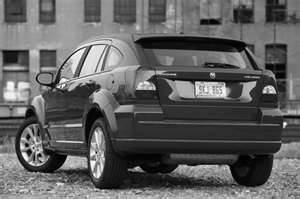car: (14, 31, 286, 192)
